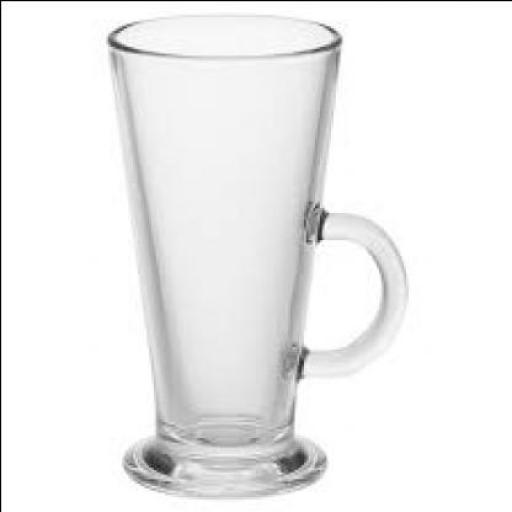glass: (104, 11, 402, 494)
